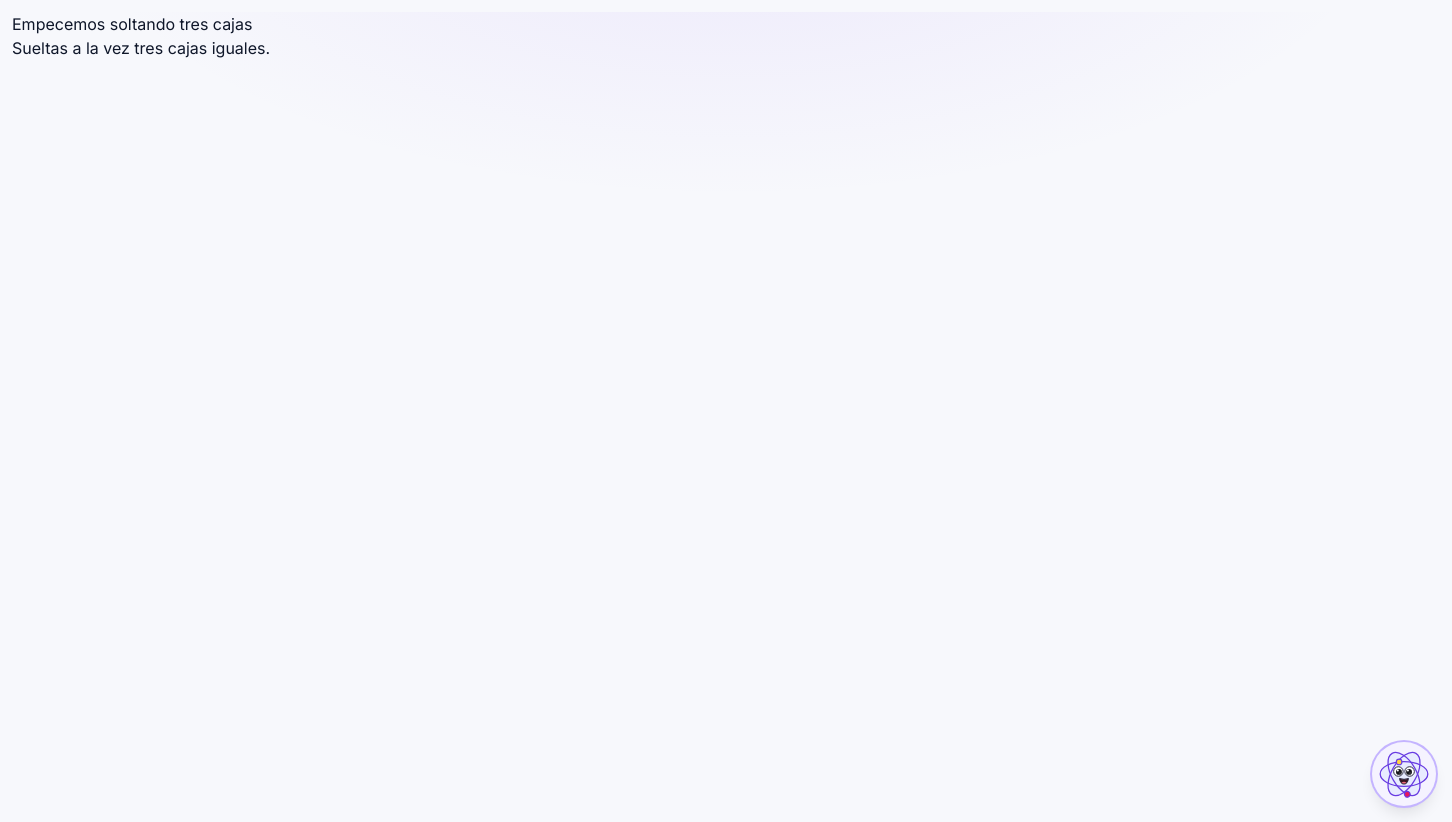
Test: LessonChat › shows the reply as plain text, without links or images
Click the button named "Pregúntale a Atomy" at (1404, 774), box [1372,742,1436,806]
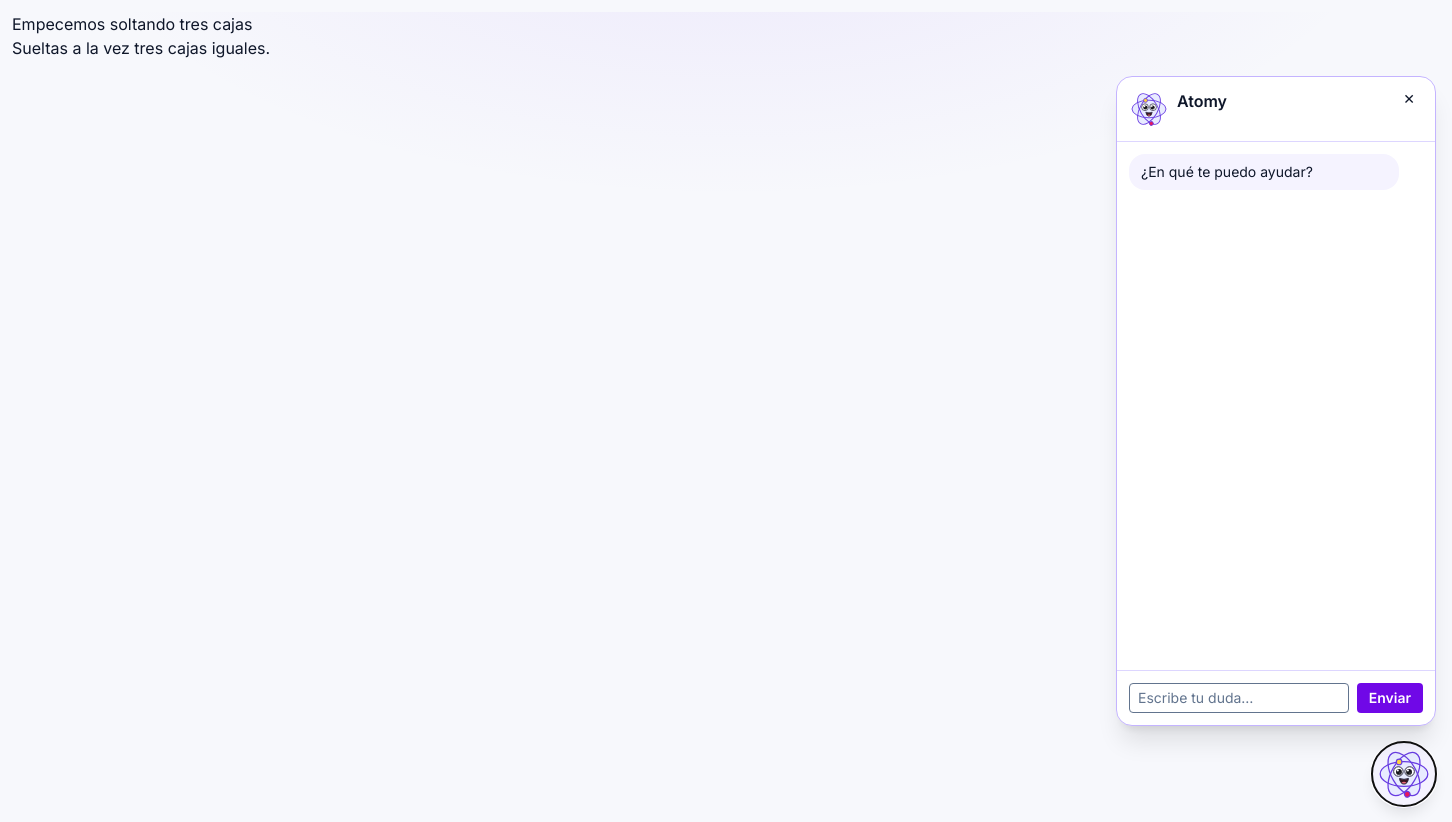
Type "¿Algo más?" into the field named "Tu pregunta" at (1239, 698), box [1129,683,1349,713]
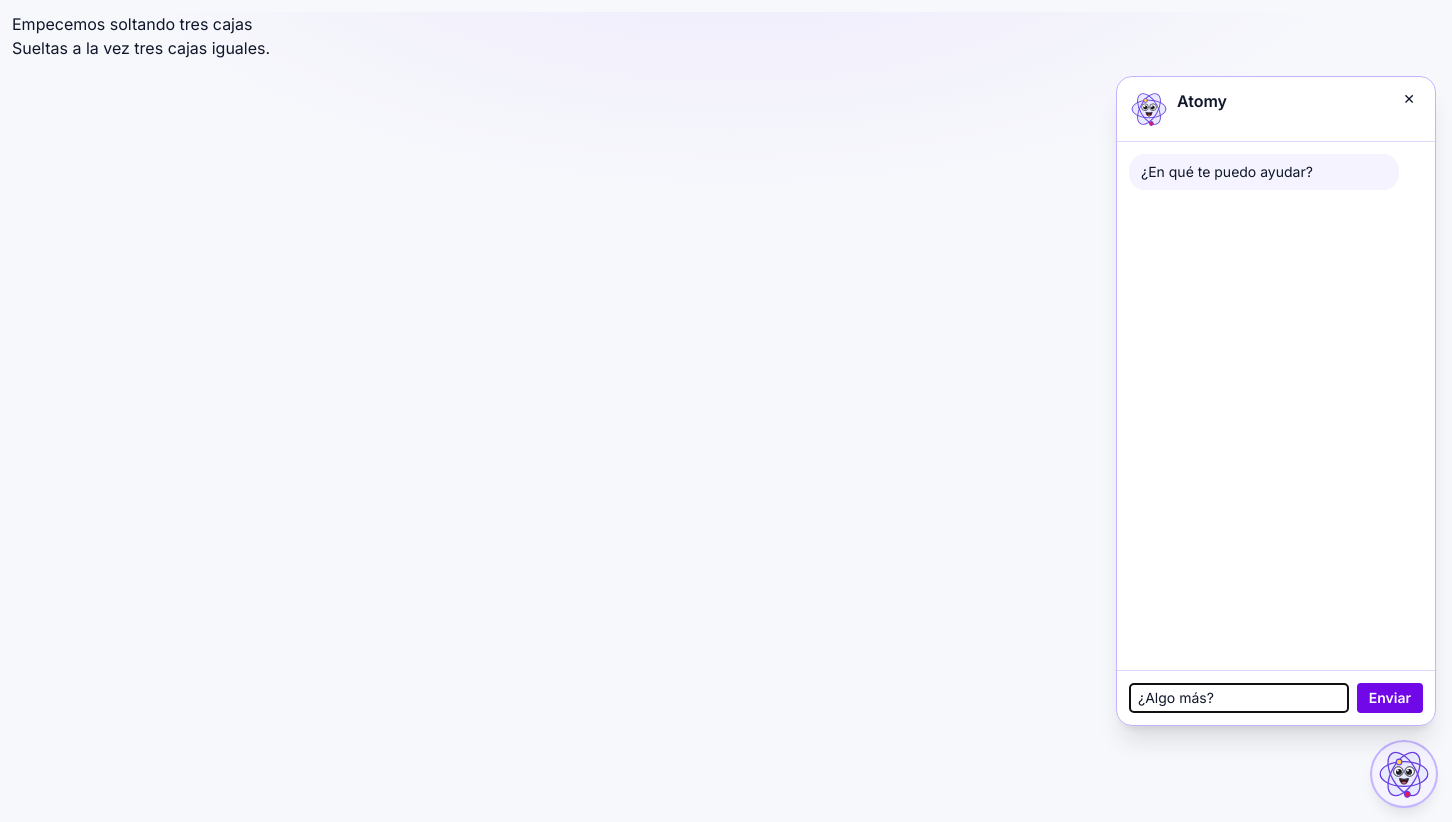
Click the button "Enviar" at (1390, 698), box [1357,683,1423,713]
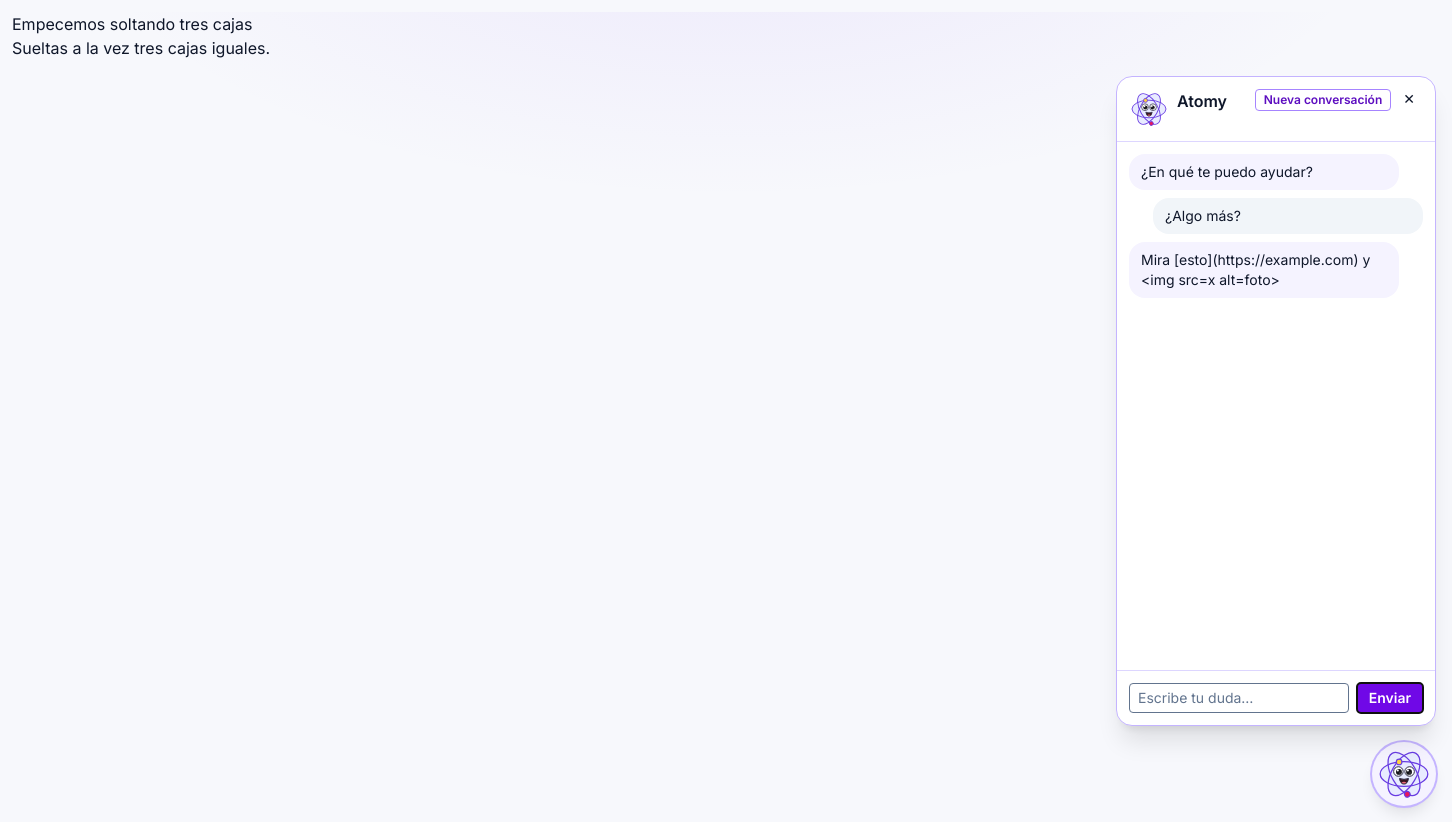
Expected: the element named "Chat con Atomy" shows "Mira [esto](https://example.com) y <img src=x alt=foto>", [1141,251,1374,288]
